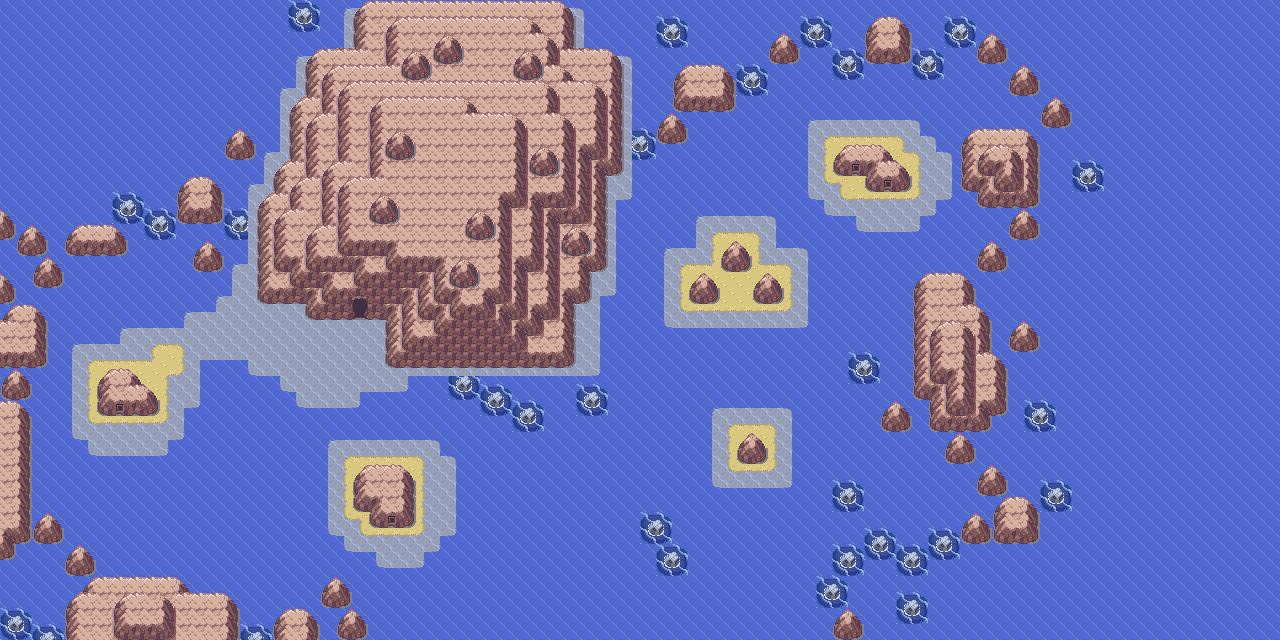cave: (331, 280, 388, 322)
